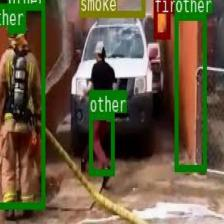fire: (153, 0, 170, 37)
smoke: (78, 0, 144, 16)
